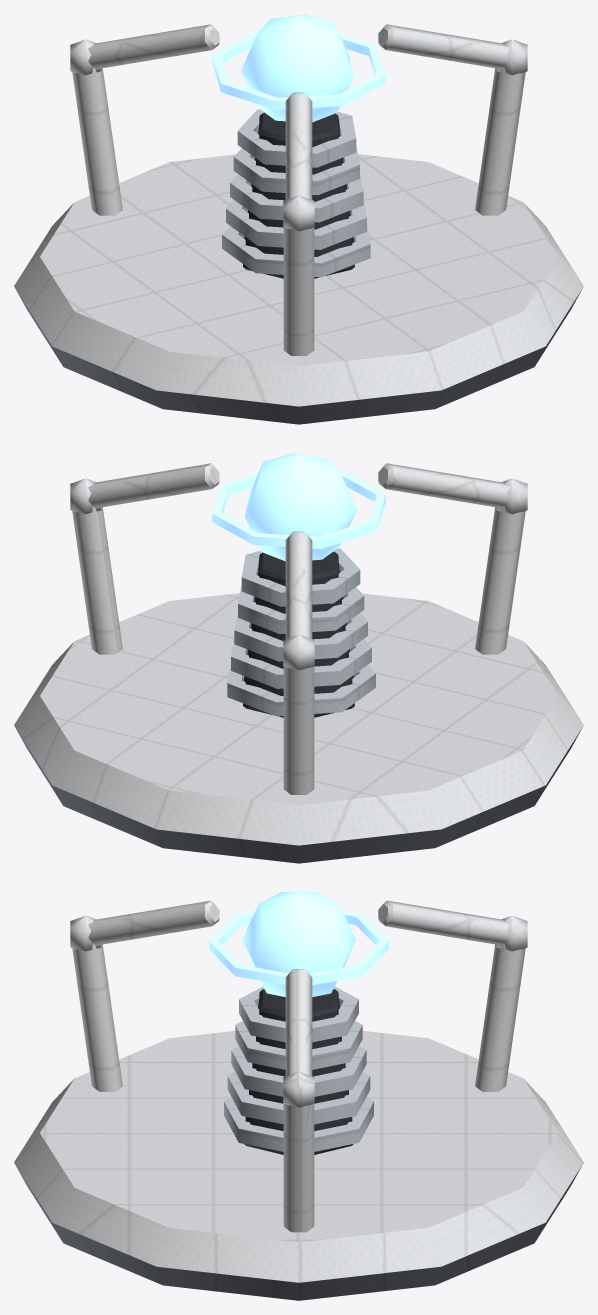
Rendered from R4D_EMPTrap_LOD1.glb.
3 views of the same model, one above another, from view 1: azimuth 30°, elevation 25°; view 2: azimuth 150°, elevation 25°; view 3: azimuth 270°, elevation 25° (orthographic).
Parts seen in each view (by area): view 1: R4D_EMPTrap_LOD1; view 2: R4D_EMPTrap_LOD1; view 3: R4D_EMPTrap_LOD1.
Part boxes in pixels (box(x1,y1,x2,y2)): R4D_EMPTrap_LOD1: box(14, 14, 583, 424); R4D_EMPTrap_LOD1: box(14, 453, 583, 863); R4D_EMPTrap_LOD1: box(14, 892, 583, 1300).
Size of the model in its own units: 0.44 by 0.25 by 0.44.
5 materials, 4 textured.
